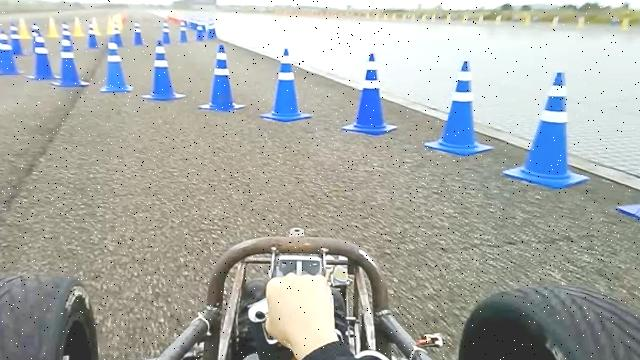blue cone: (502, 71, 590, 188), (424, 60, 494, 156), (342, 52, 398, 135), (260, 47, 312, 122), (198, 43, 246, 111), (141, 38, 186, 100), (100, 36, 131, 93), (51, 35, 81, 87), (29, 30, 58, 80)
